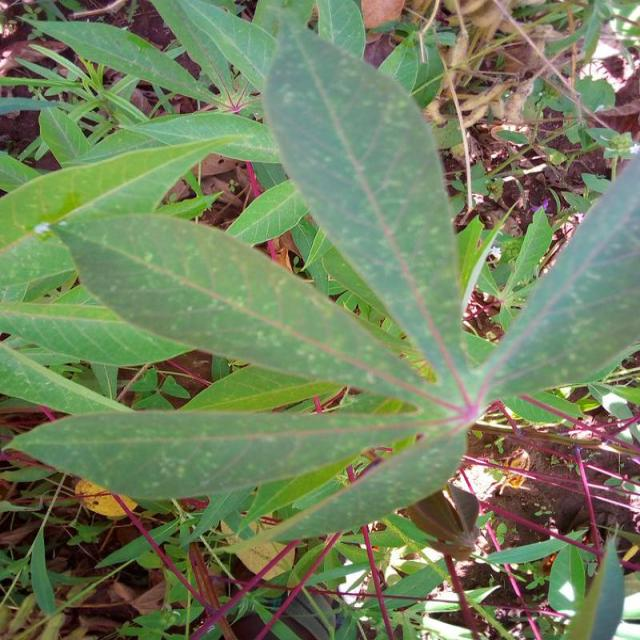cassava leaf: (1, 13, 638, 558), (260, 9, 470, 382)
